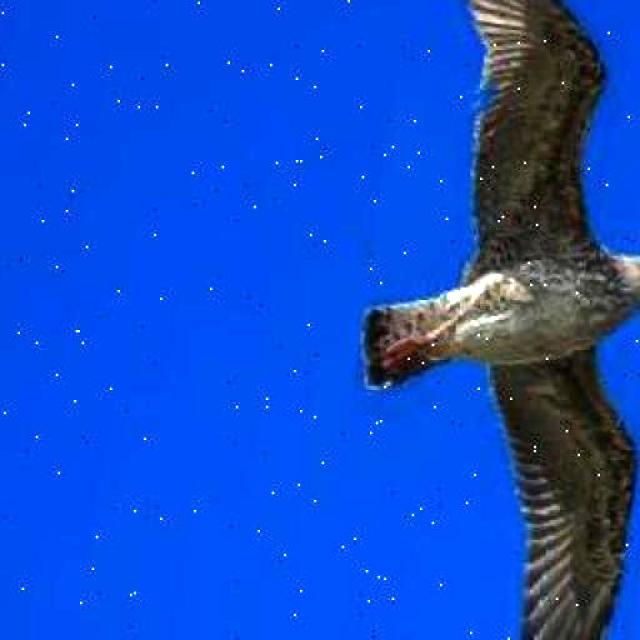airplane: (296, 0, 640, 640)
